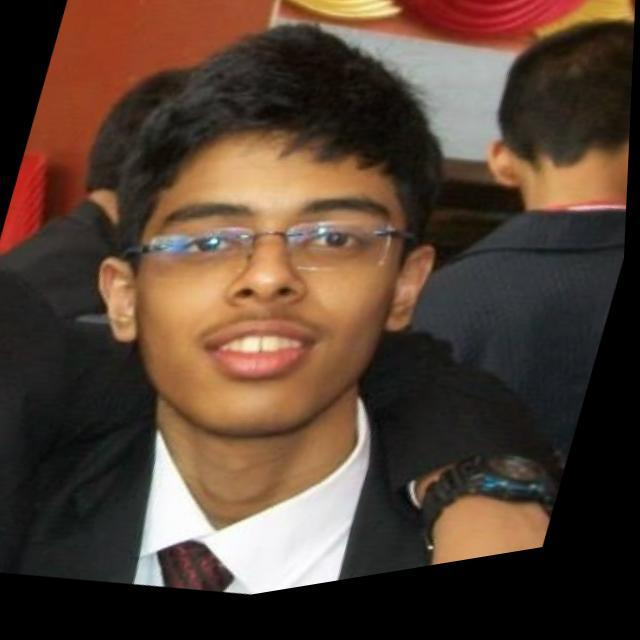Nonhelmet: (86, 20, 447, 438)
